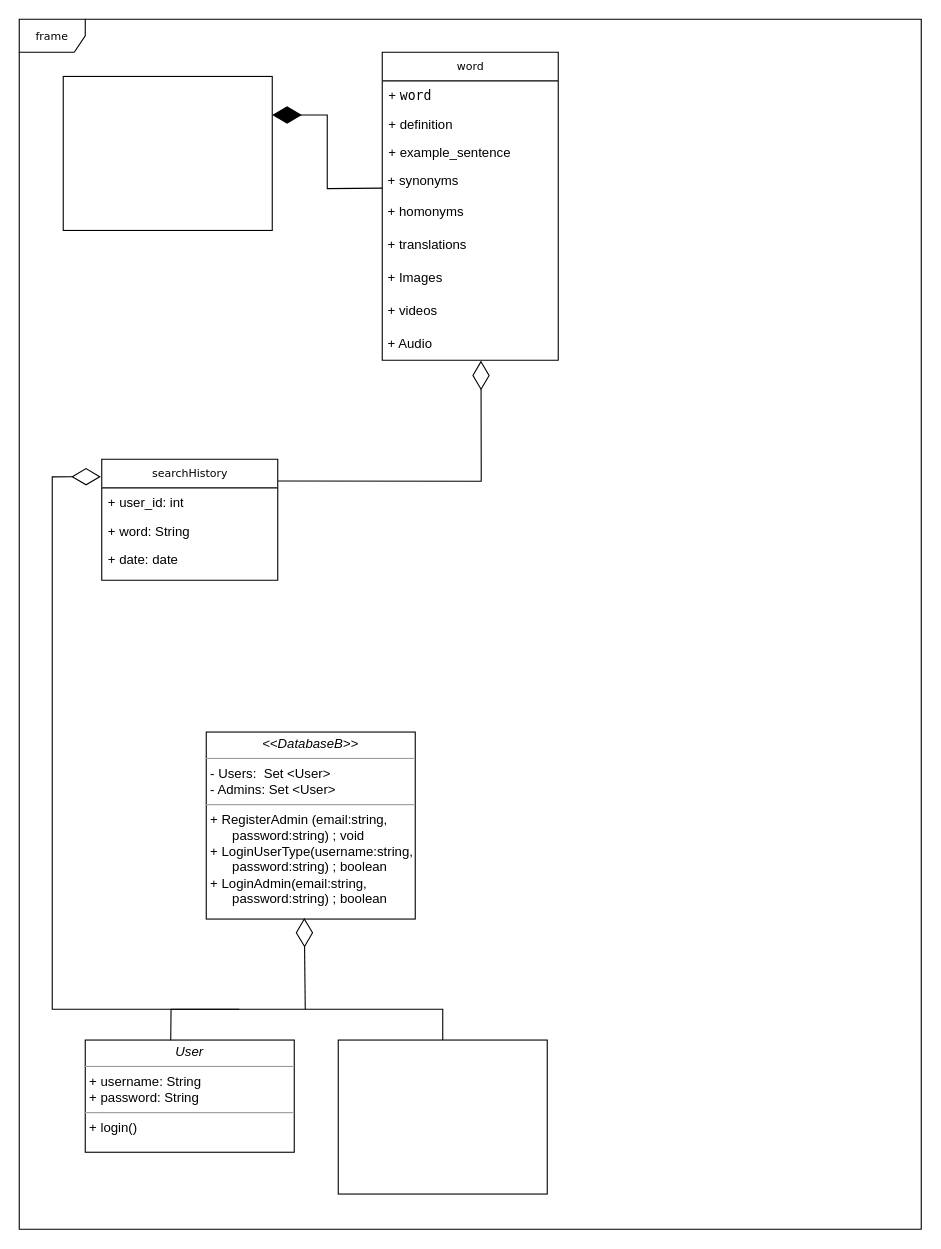
The diagram is 941 pixels wide and 1249 high, and some of its shapes have lost their labels. The box of each missing label's shape, as (x1, y1, x2, y2) in pixels:
<<DatabaseA>> word_db + insertWord + getWord + updateWord: (62, 75, 272, 230)
Admin + email: String + password: String + register() + login(): (337, 1039, 547, 1194)
